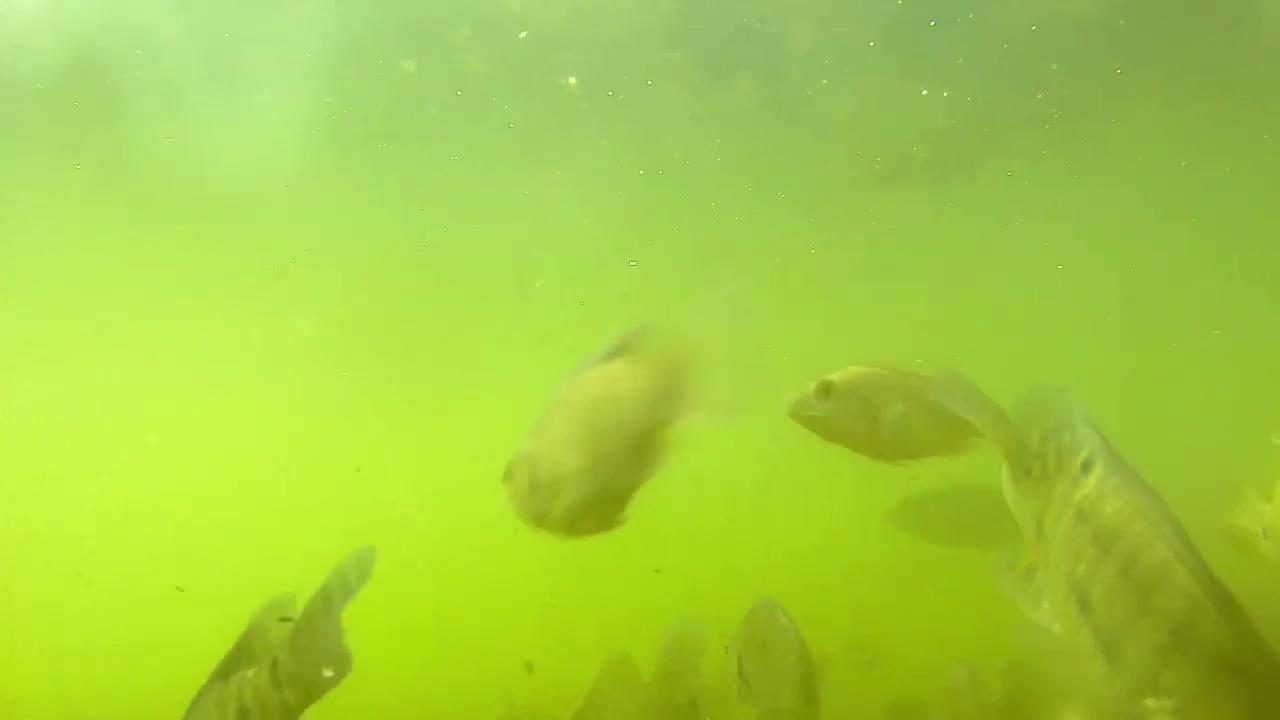Tilapia: (990, 412, 1280, 720), (501, 330, 696, 552), (787, 366, 986, 462)
